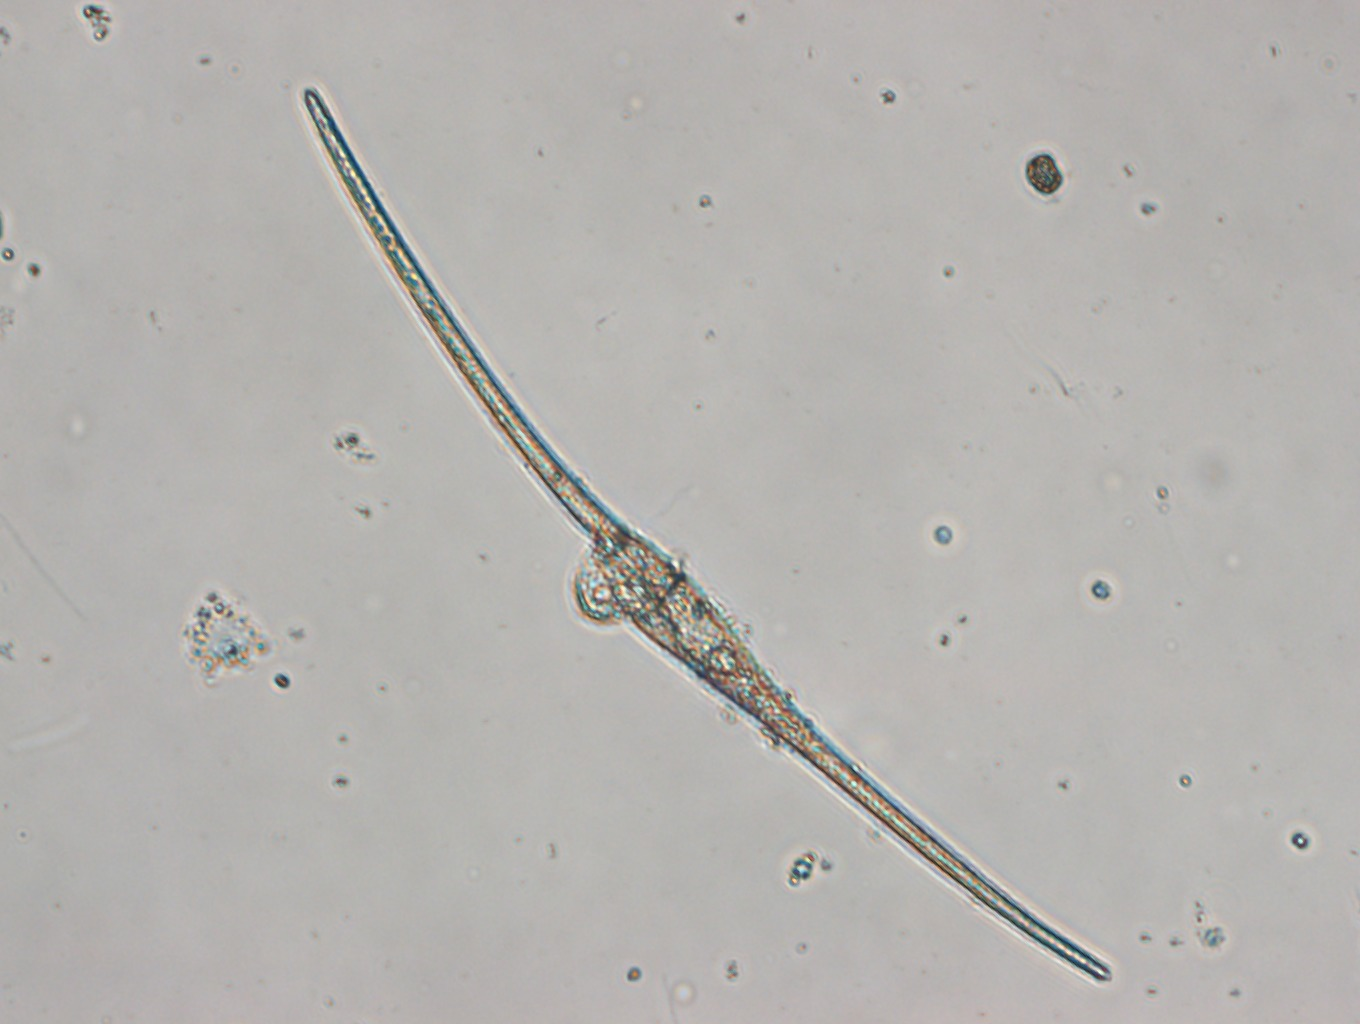ceratium fusus: (300, 87, 1107, 982)
